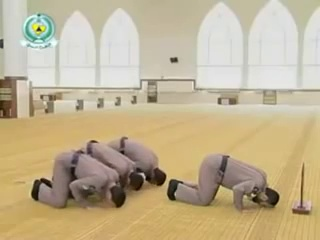sujud: (168, 152, 280, 214), (31, 147, 124, 208), (96, 137, 166, 189)
